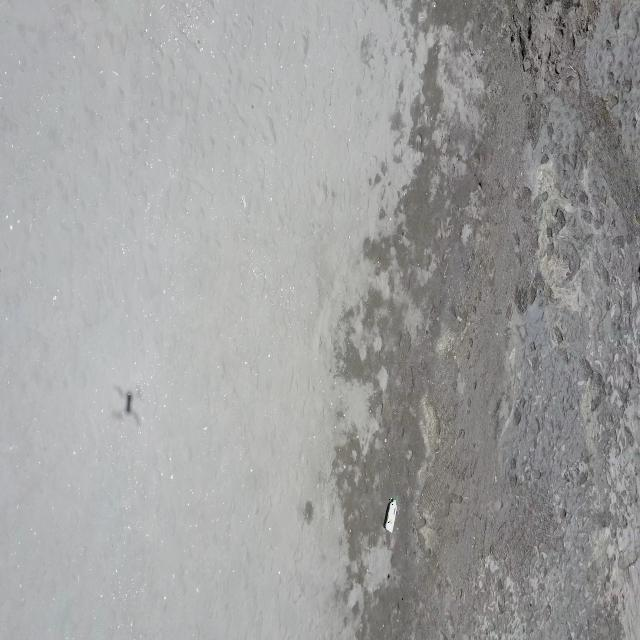plastic-bottle: (384, 498, 398, 532)
